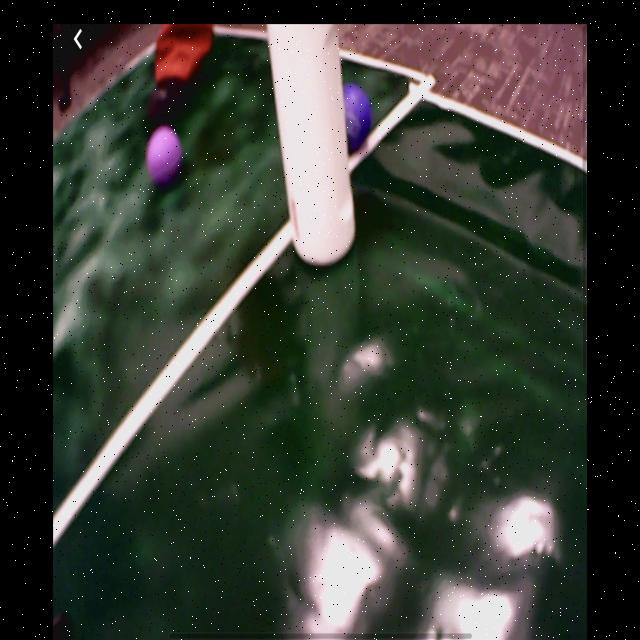ball: (343, 83, 372, 159), (147, 128, 183, 186)
